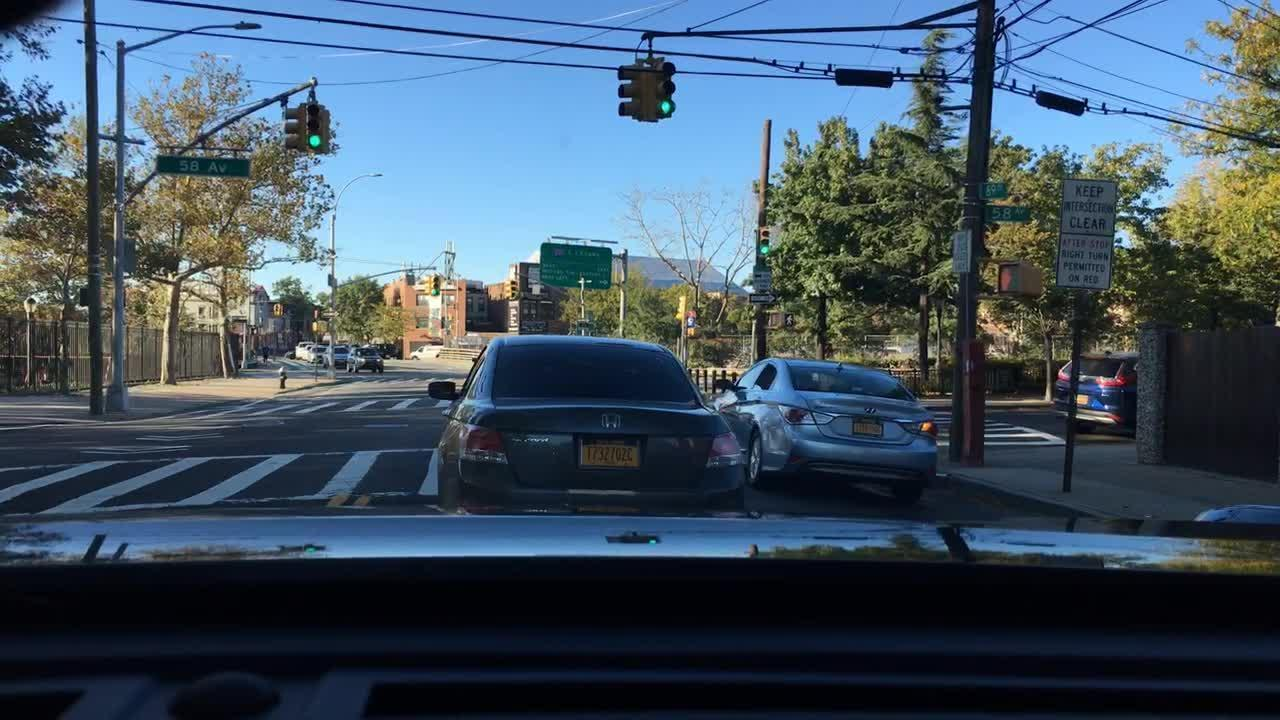Honda: (590, 404, 631, 437)
Hyundai: (859, 401, 882, 420)
